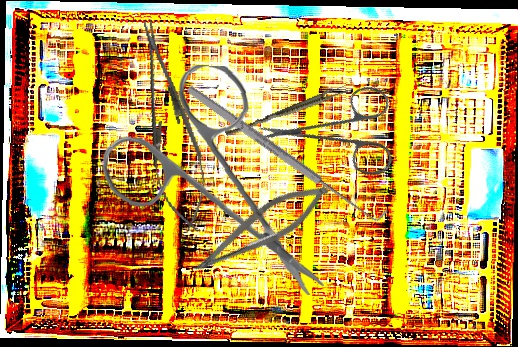Hook Surgical: (182, 75, 390, 230)
Iris Scissors: (96, 60, 335, 296), (255, 48, 424, 216)
Micro Scissor: (185, 169, 337, 292)
Needle Holder: (123, 14, 218, 236)
Tissue Forceps: (224, 82, 349, 141)
